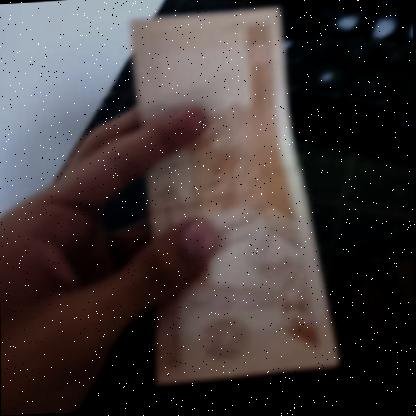twenty-back-vef: (132, 0, 344, 395)
